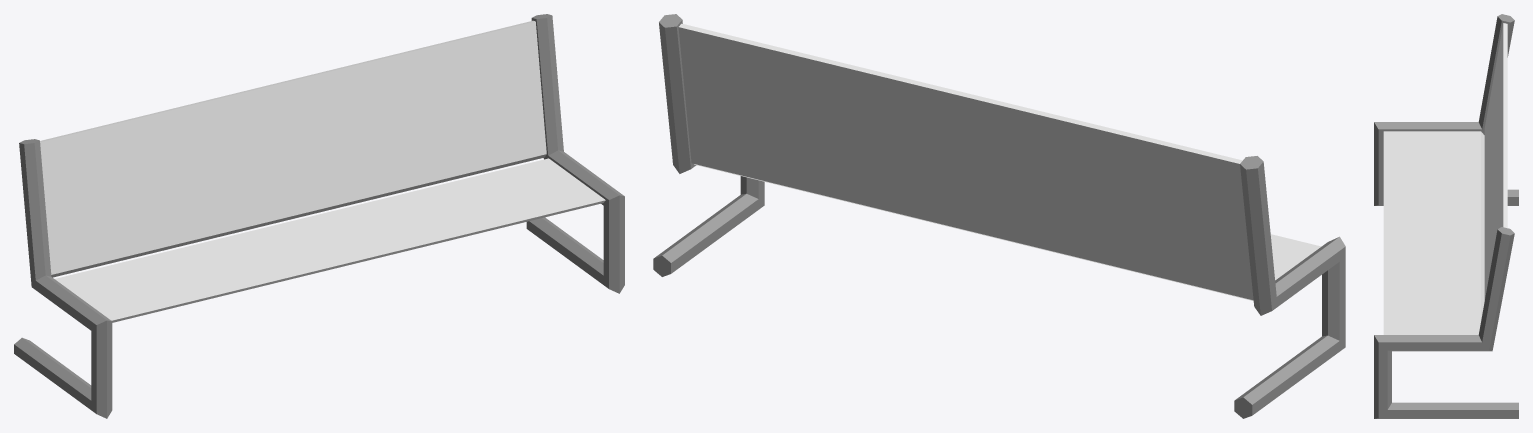
File: SM_Bench_01_01.FBX
3 views of the same model, side by side, from view 1: azimuth 30°, elevation 25°; view 2: azimuth 150°, elevation 25°; view 3: azimuth 270°, elevation 25° (orthographic). The views are drawn at different scales.
Visible parts, largest first — view 1: SM_Bench_01_01; view 2: SM_Bench_01_01; view 3: SM_Bench_01_01.
Boxes of the visible parts, x1,y1,x2,y2 form: SM_Bench_01_01: (14, 14, 624, 418); SM_Bench_01_01: (653, 14, 1345, 418); SM_Bench_01_01: (1374, 14, 1518, 418).
Size of the model in its own units: 1.7 by 0.6865 by 0.4749.
Materials: 1 (1 with a texture image).
